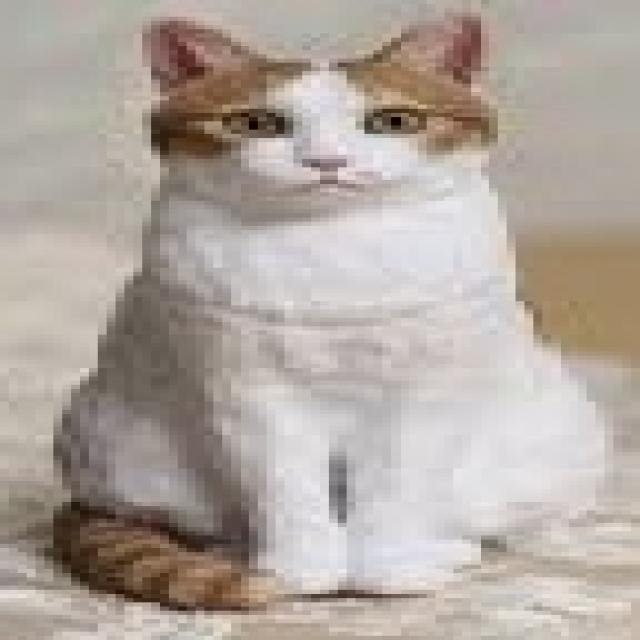cat: (44, 5, 619, 614)
